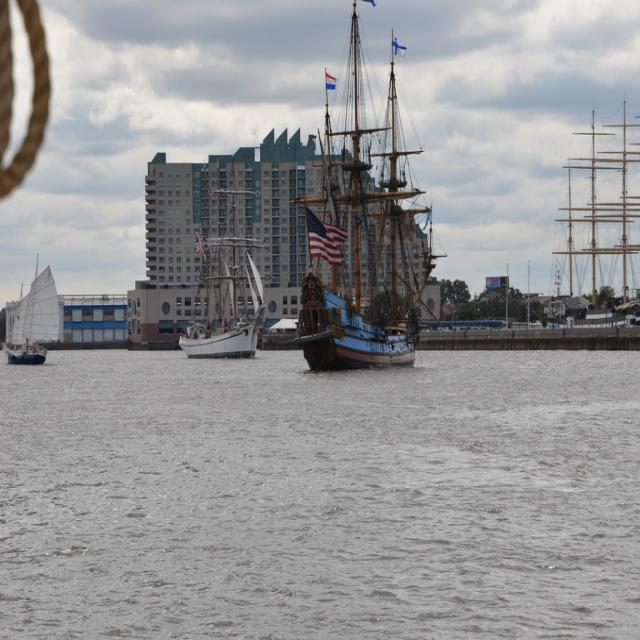Boat: (289, 0, 452, 390), (173, 187, 268, 356), (4, 258, 59, 375)
